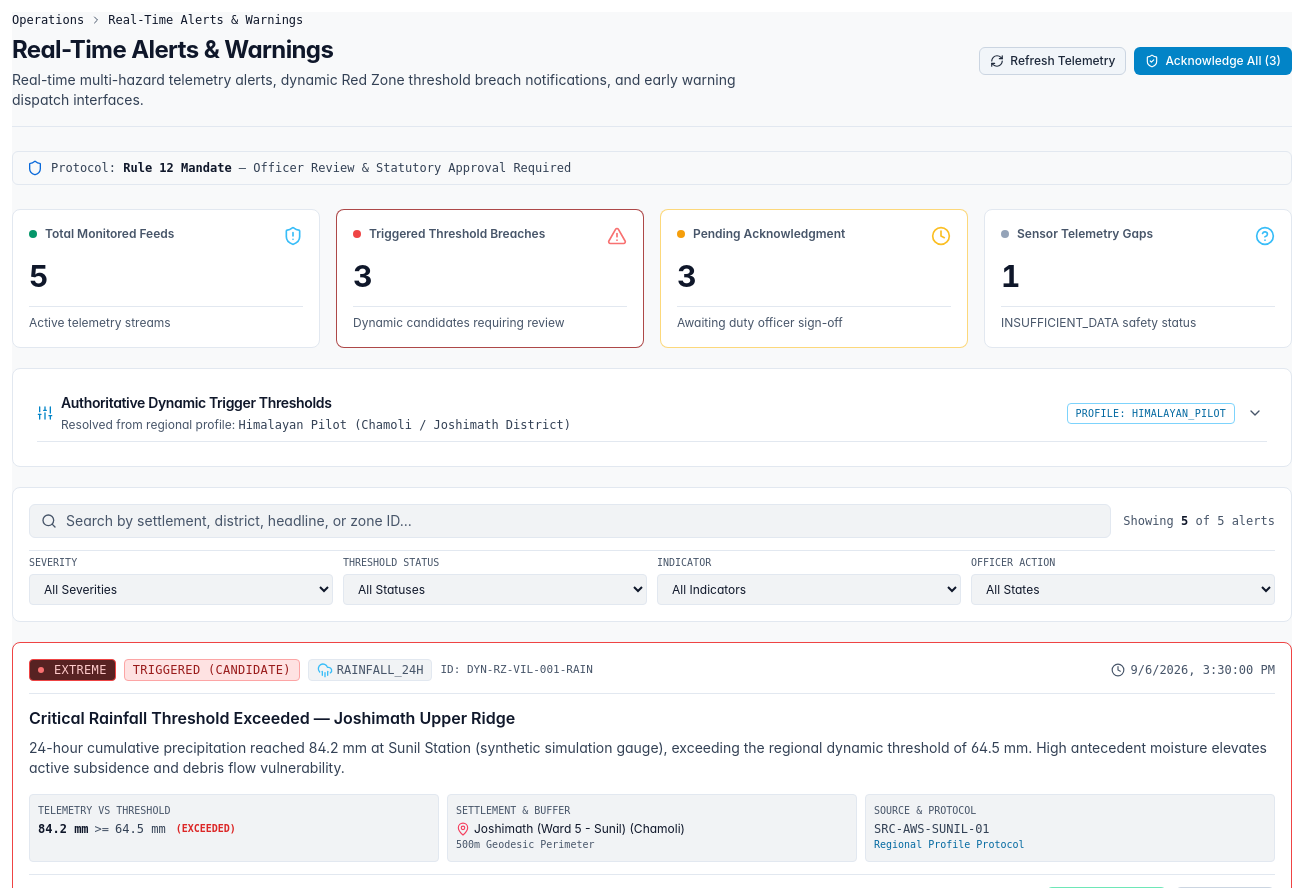
Test case: Real-Time Alerts & Threshold Warnings UI Suite (Chunk M6-05) › Filtering & Search Controls › filters alerts by M3-11 status
Expected: the heading "Critical Rainfall Threshold Exceeded — Joshimath Upper Ridge" is shown, [29,708,515,728]
Select "Insufficient Data (Gap)" in the dropdown named "M3-11 Status" at (495, 590), box [343,574,647,605]
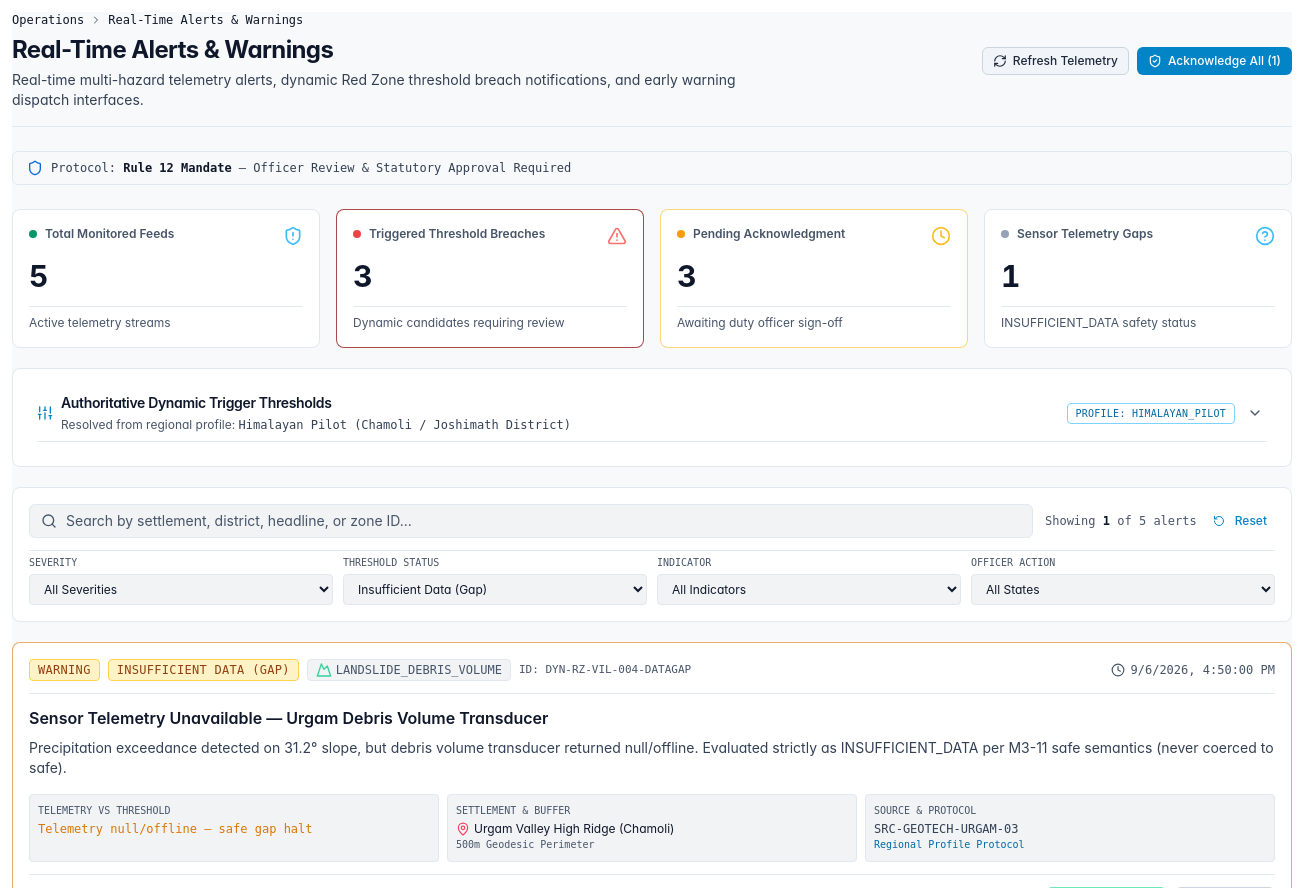
Expected: the heading "Sensor Telemetry Unavailable — Urgam Debris Volume Transducer" is shown, [29,708,548,728]
Result: the heading "Critical Rainfall Threshold Exceeded — Joshimath Upper Ridge" is gone
